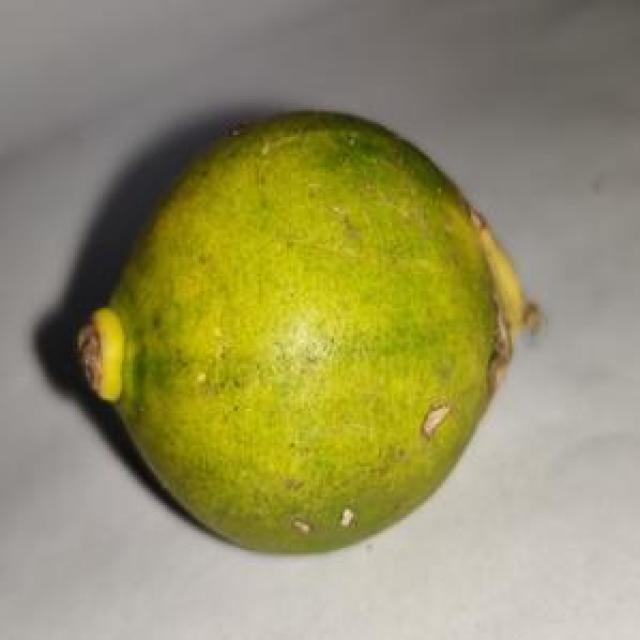damaged: (73, 111, 535, 559)
